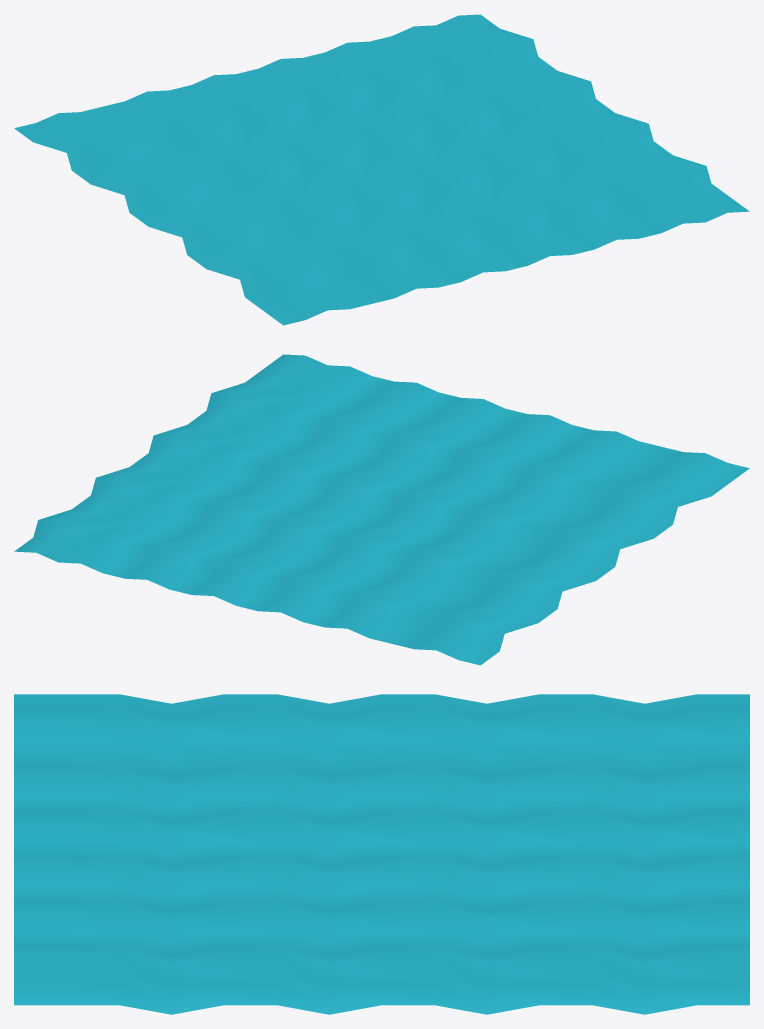
File: water.fbx
3 renders of one model, top to bottom at view 1: azimuth 30°, elevation 25°; view 2: azimuth 150°, elevation 25°; view 3: azimuth 270°, elevation 25°, orthographic. The views are drawn at different scales.
Parts seen in each view (by area): view 1: Water; view 2: Water; view 3: Water.
Part boxes in pixels (x1,y1,x2,y2): Water: [14, 14, 749, 325]; Water: [14, 354, 749, 665]; Water: [14, 694, 749, 1014].
Size of the model in its own units: 20407 by 175 by 19800.
